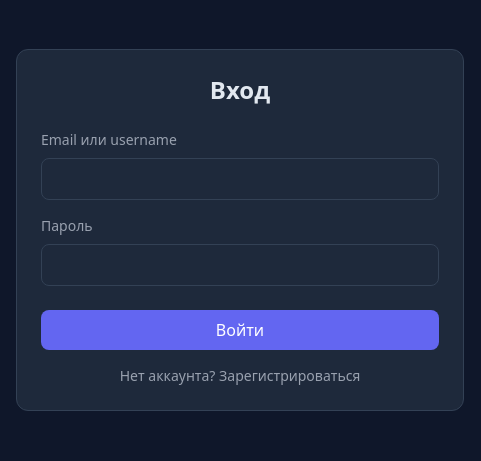
LoginPage › shows default error when problem detail is missing
Type "bad" into the field at coordinates (240, 179), box [41,158,439,200]
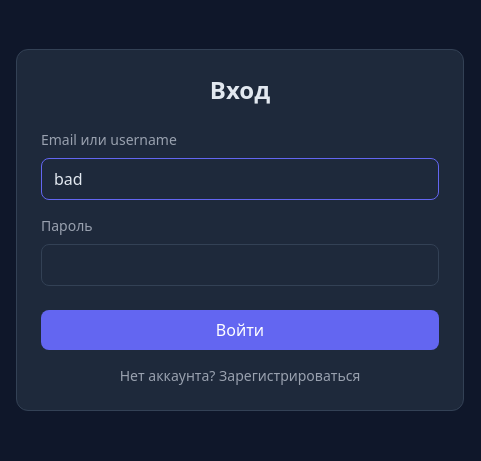
Type "bad" into the password field at coordinates (240, 265), box [41,244,439,286]
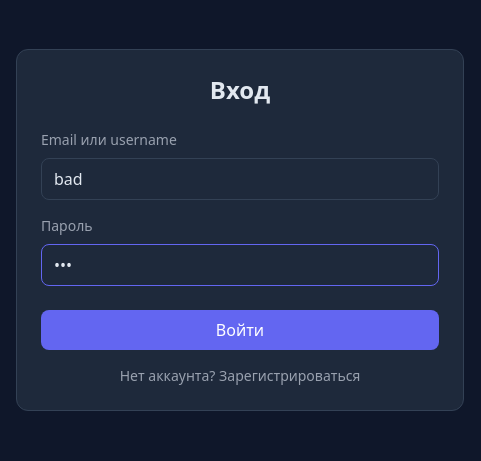
Click the button "Войти" at coordinates (240, 330), box [41,310,439,350]
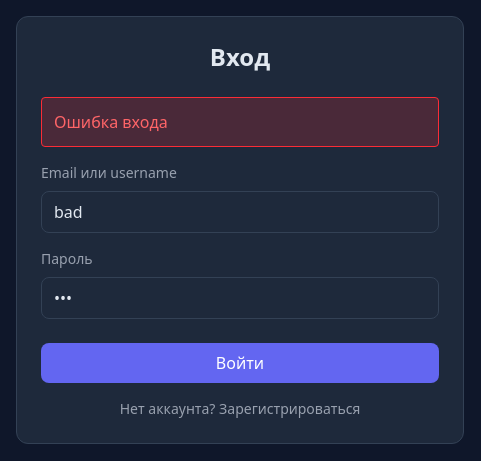
Expected: the text "Ошибка входа" is shown, [41,97,439,147]
